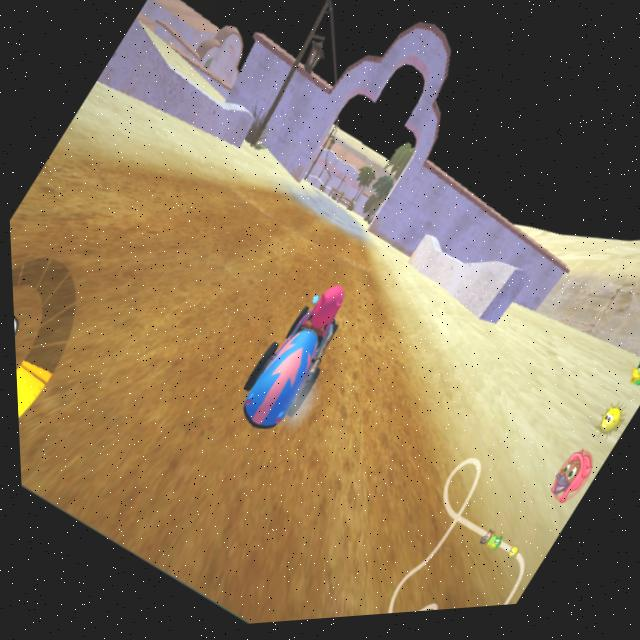off_track: (357, 213, 605, 430)
player_kart: (212, 272, 367, 456)
track: (249, 169, 378, 306)
